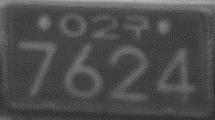0: (58, 12, 88, 39)
2: (107, 45, 148, 104), (89, 13, 120, 41)
4: (155, 46, 196, 103)
6: (62, 42, 103, 99)
7: (17, 40, 58, 97)
구: (123, 12, 152, 41)
